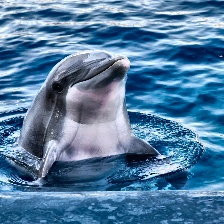dolphin: (18, 51, 162, 178)
